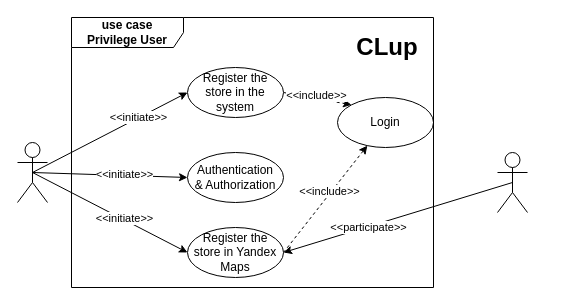
Image size: 566x305. Some labels were removed from this diagram. Each missing label, with the box of its shape:
Dave: (16, 142, 48, 202)
Yandex Maps: (496, 152, 528, 212)
